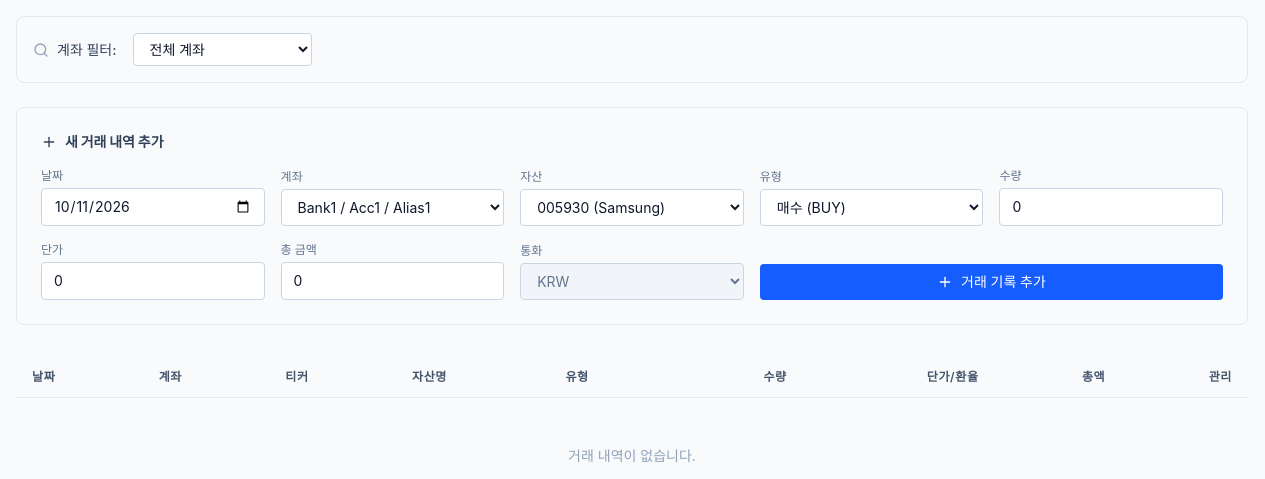
TransactionsTab › 예수금 자산 선택 시 유형이 입금/출금으로 제한되고 단가가 1로 고정되어야 한다
Expected: the button "거래 기록 추가" is shown, [760,264,1223,300]
Select "KRW (Won Cash)" in the 3rd dropdown named "asset_id". click: (632, 208)
box: [520,189,744,226]
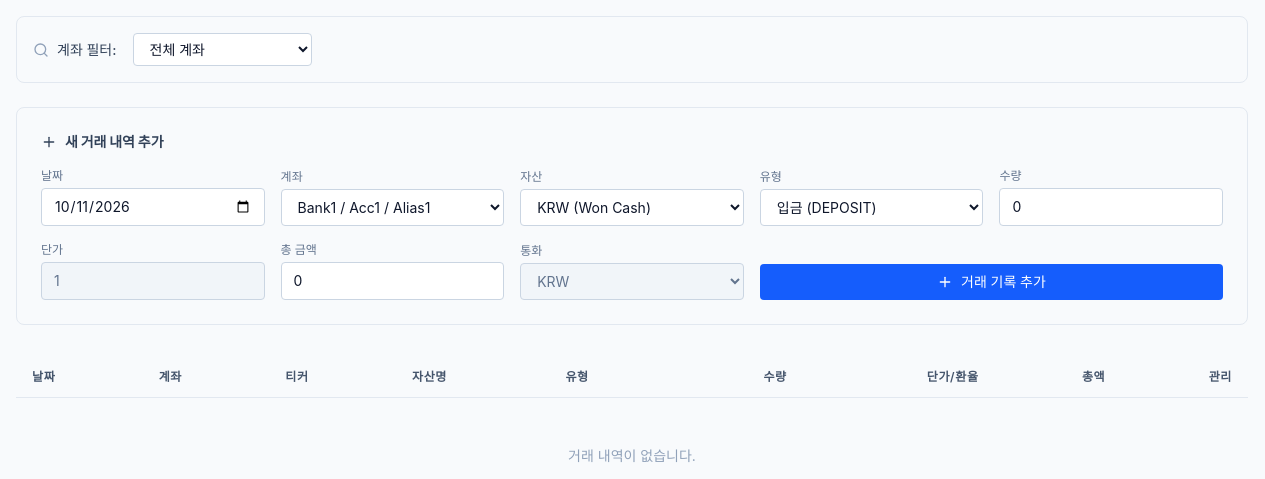
Expected: the 2nd field named "price" holds "1", [41,262,265,300]
